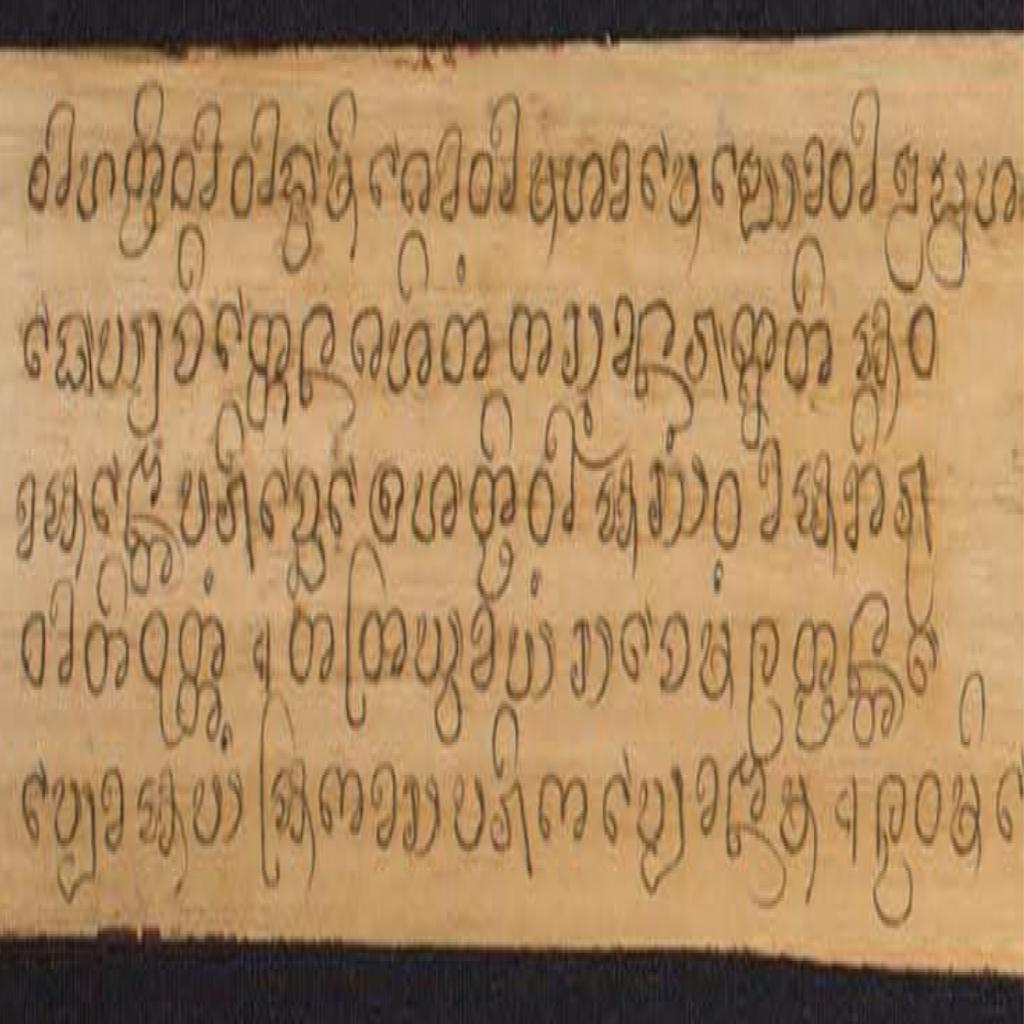LN006: (658, 600, 694, 706)
LN041: (790, 443, 840, 571)
